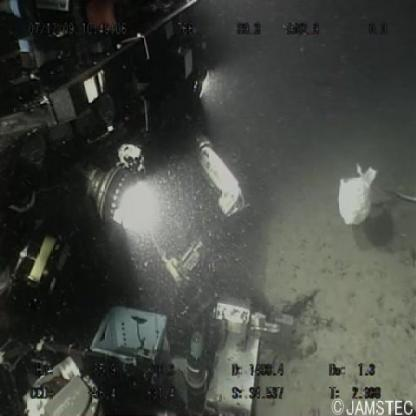Rov: (1, 1, 328, 414)
Rác: (333, 160, 380, 234)
